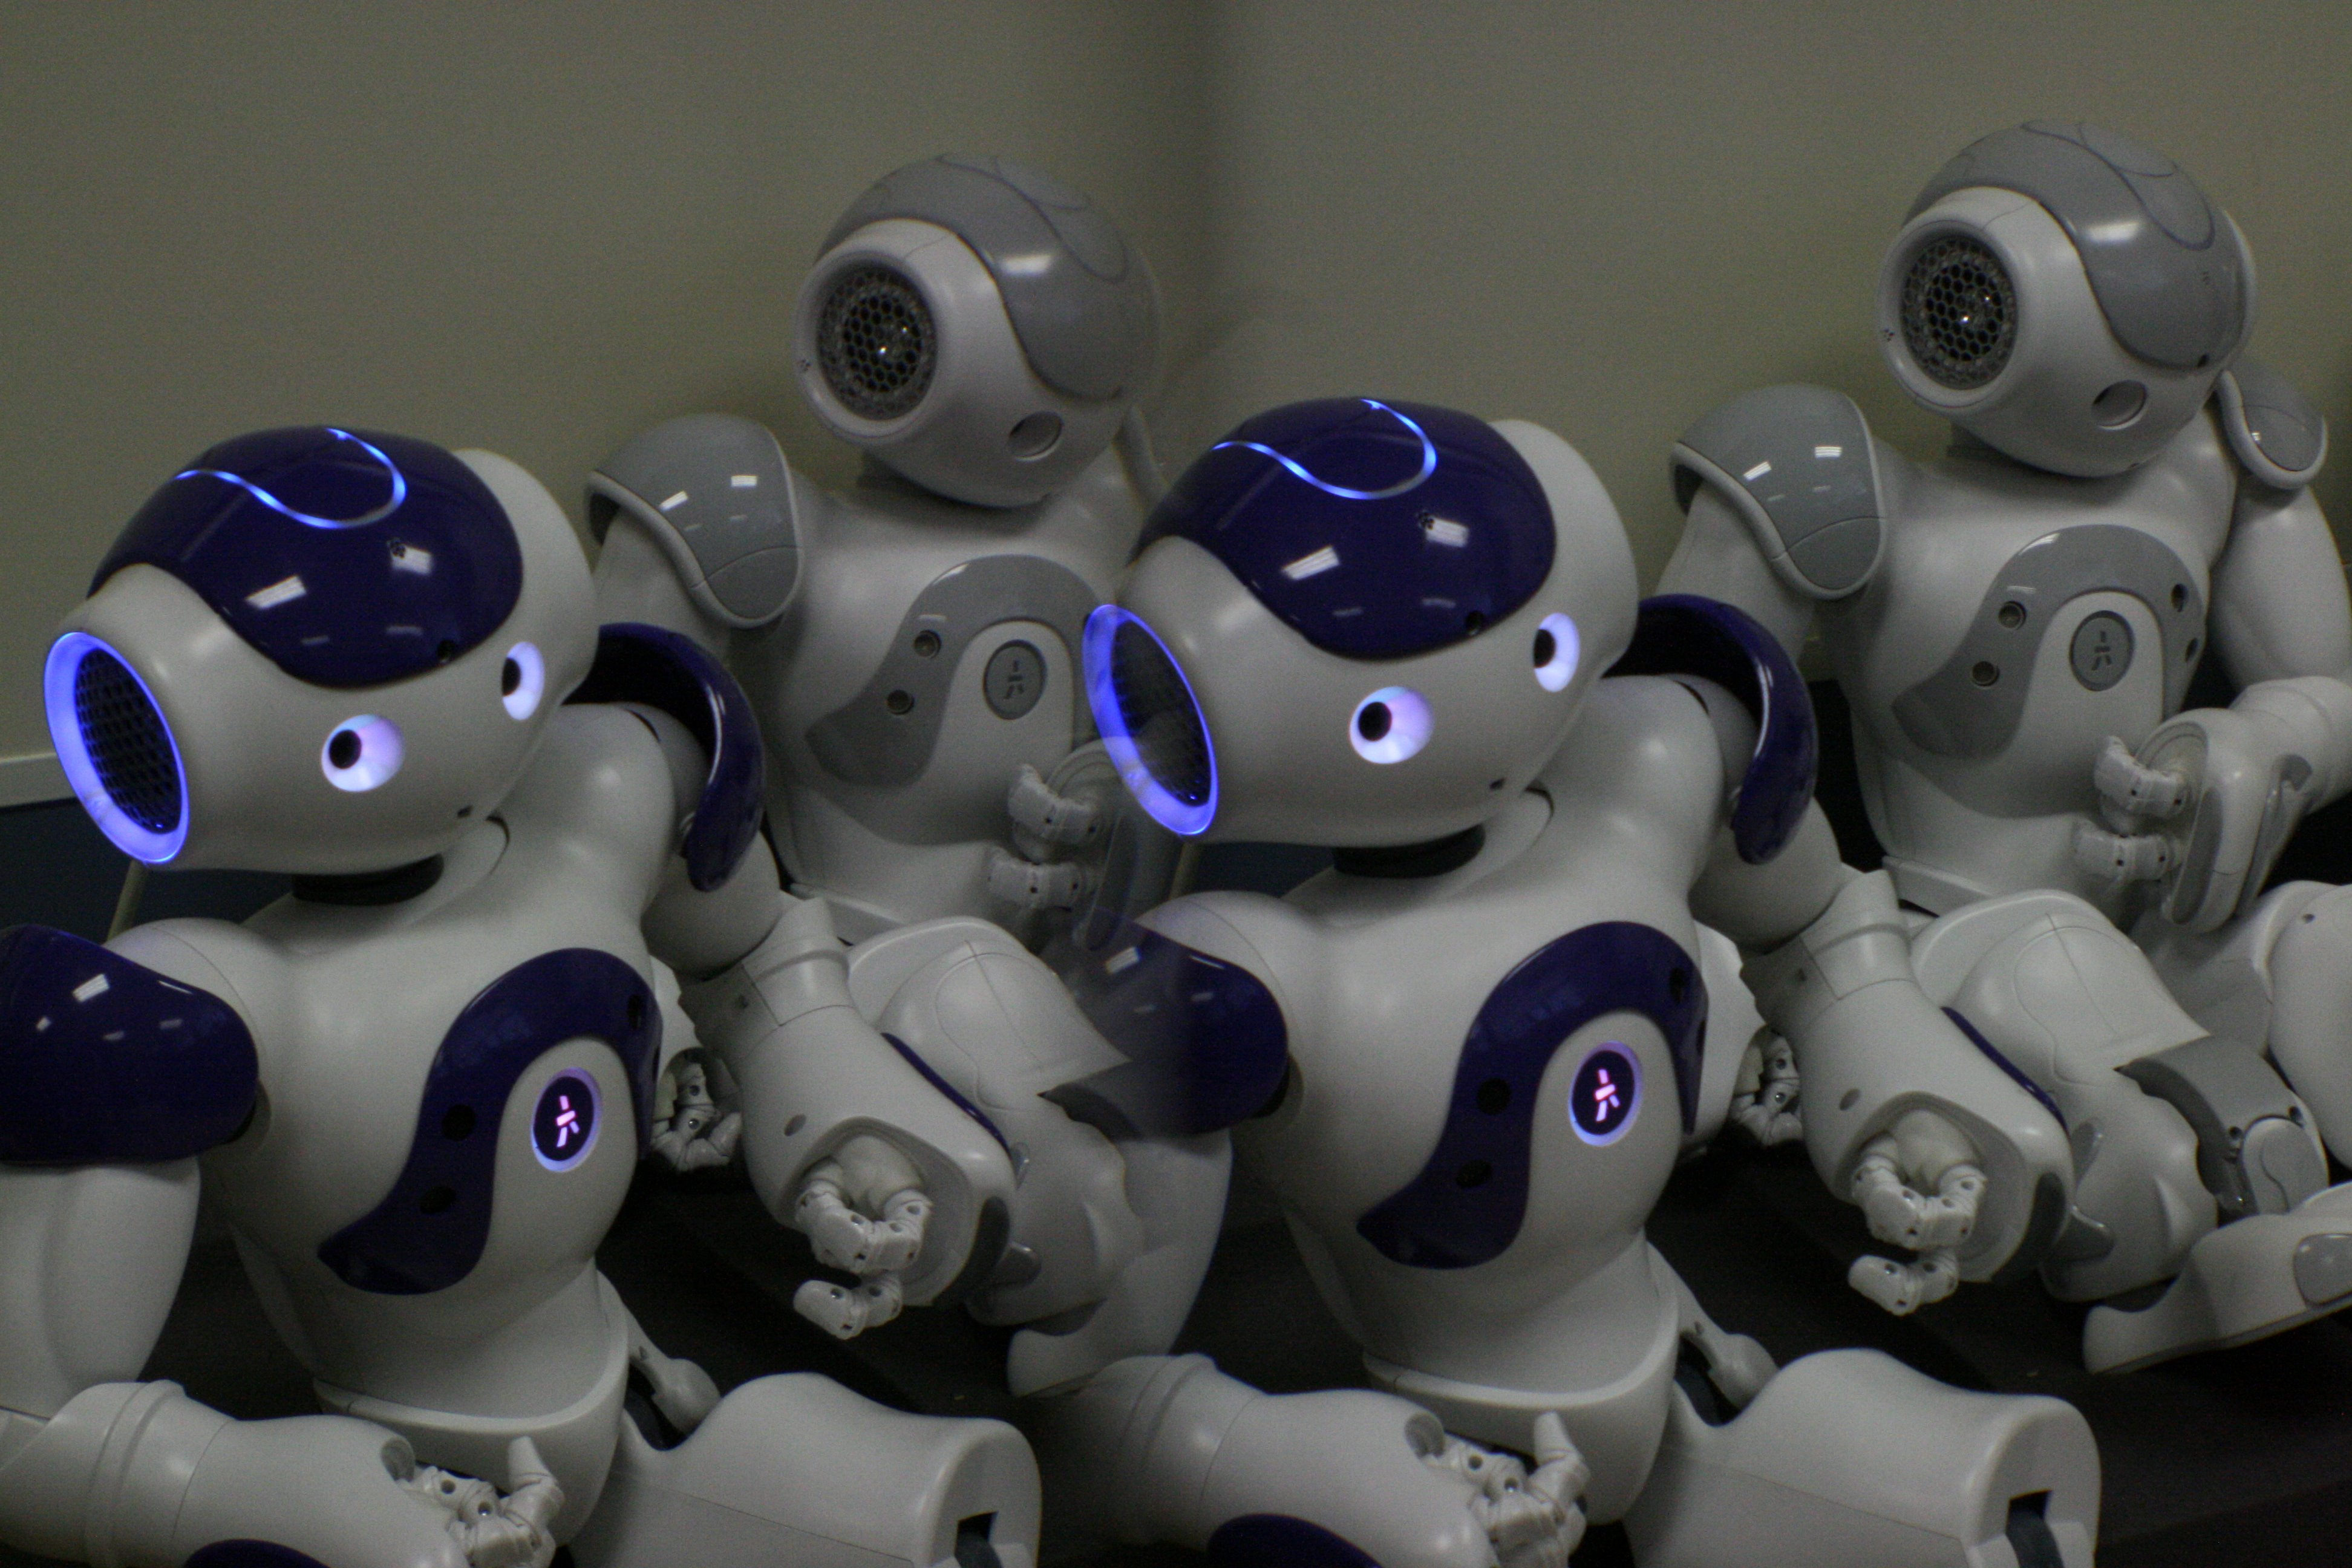nao: (1004, 354, 2130, 1568), (10, 394, 1050, 1568), (1633, 75, 2352, 1375), (576, 135, 1228, 1204)
